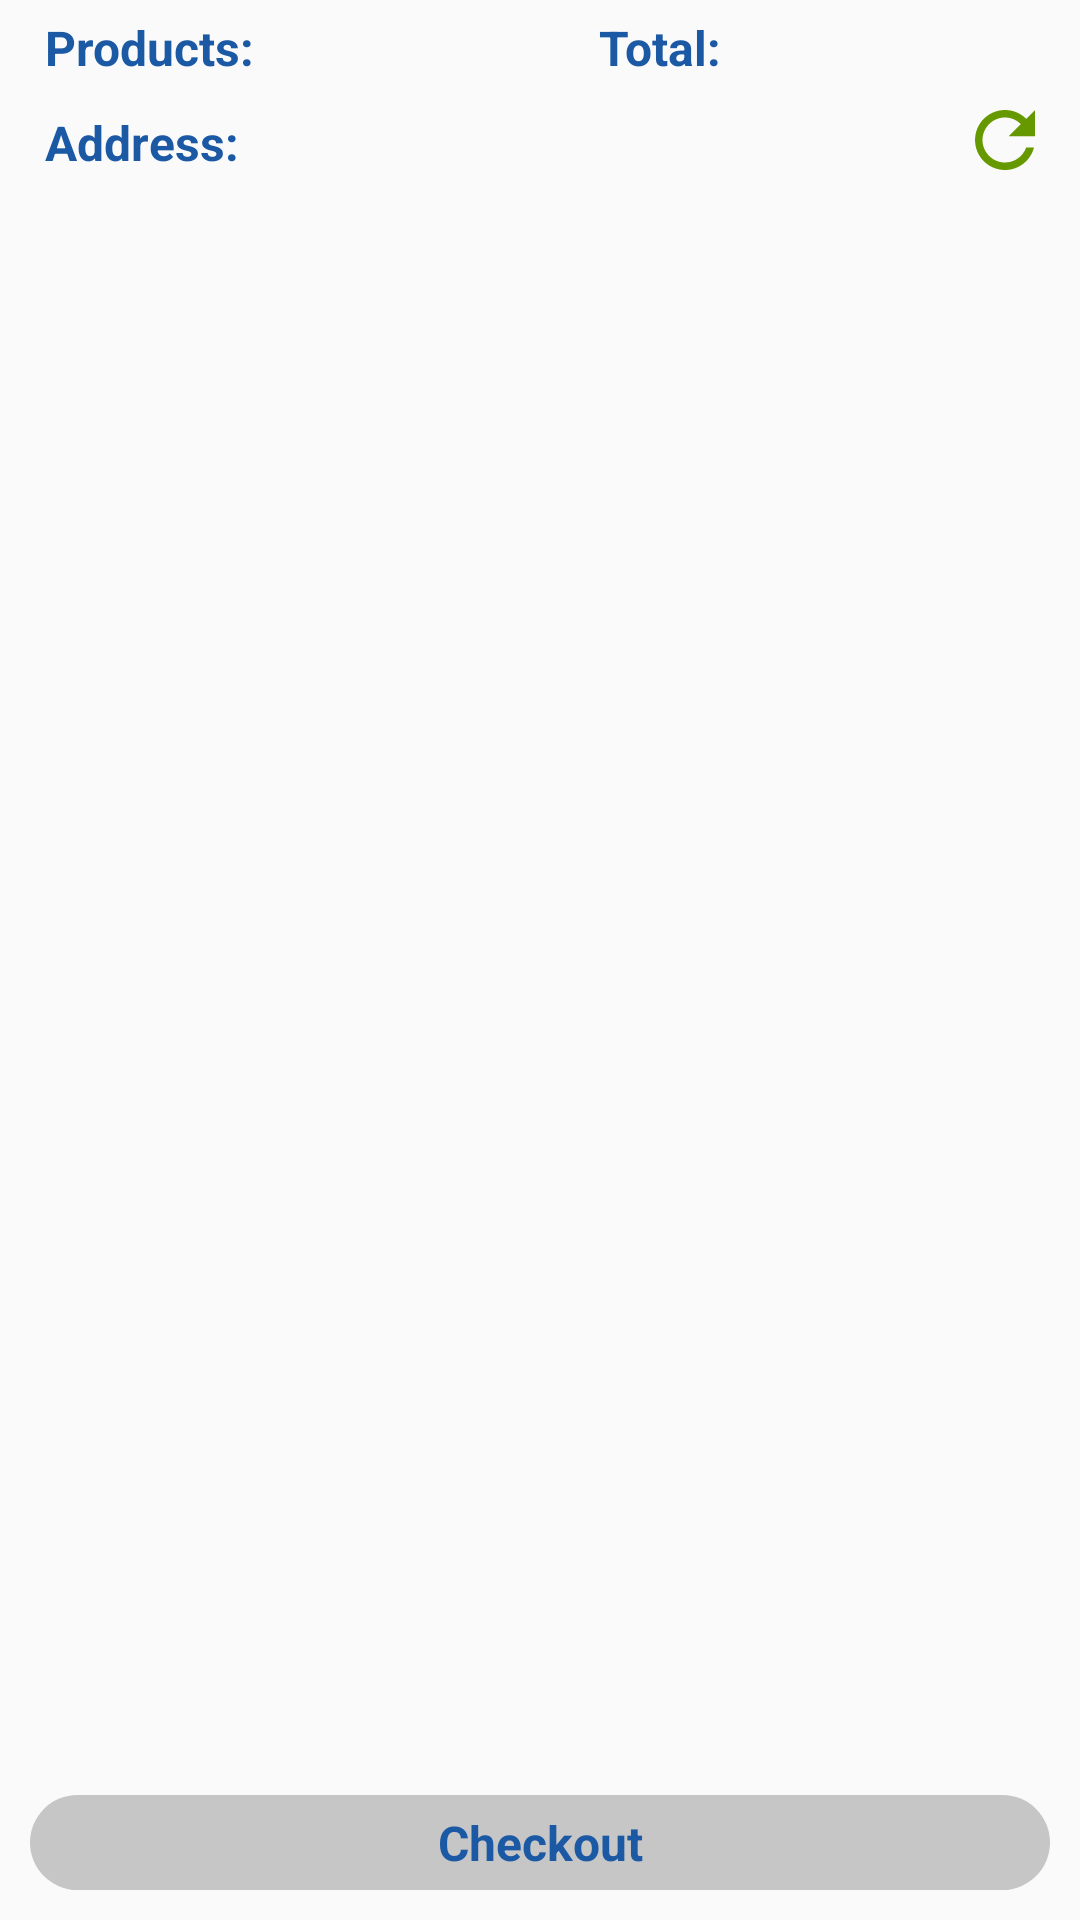

Named icons in this screenshot (1080px x 1920px) and their bounding boxes, (x1, y1, x2, y2):
refresh: (975, 110, 1035, 170)
